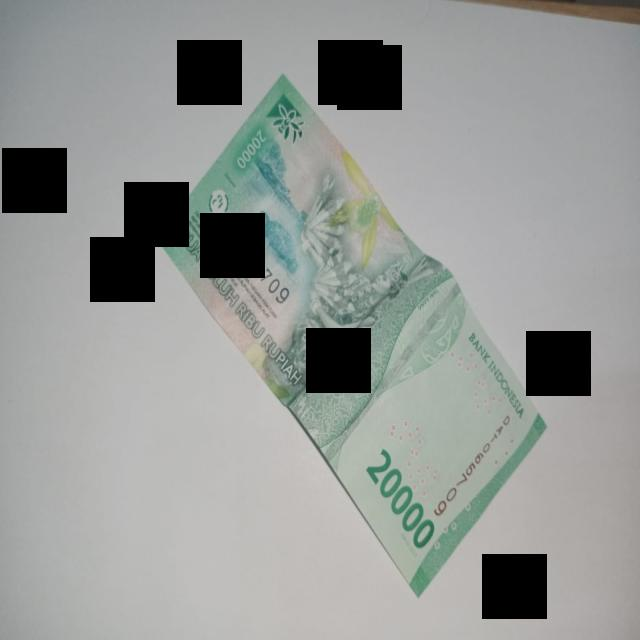dua puluh ribu rupiah: (158, 77, 545, 595)
